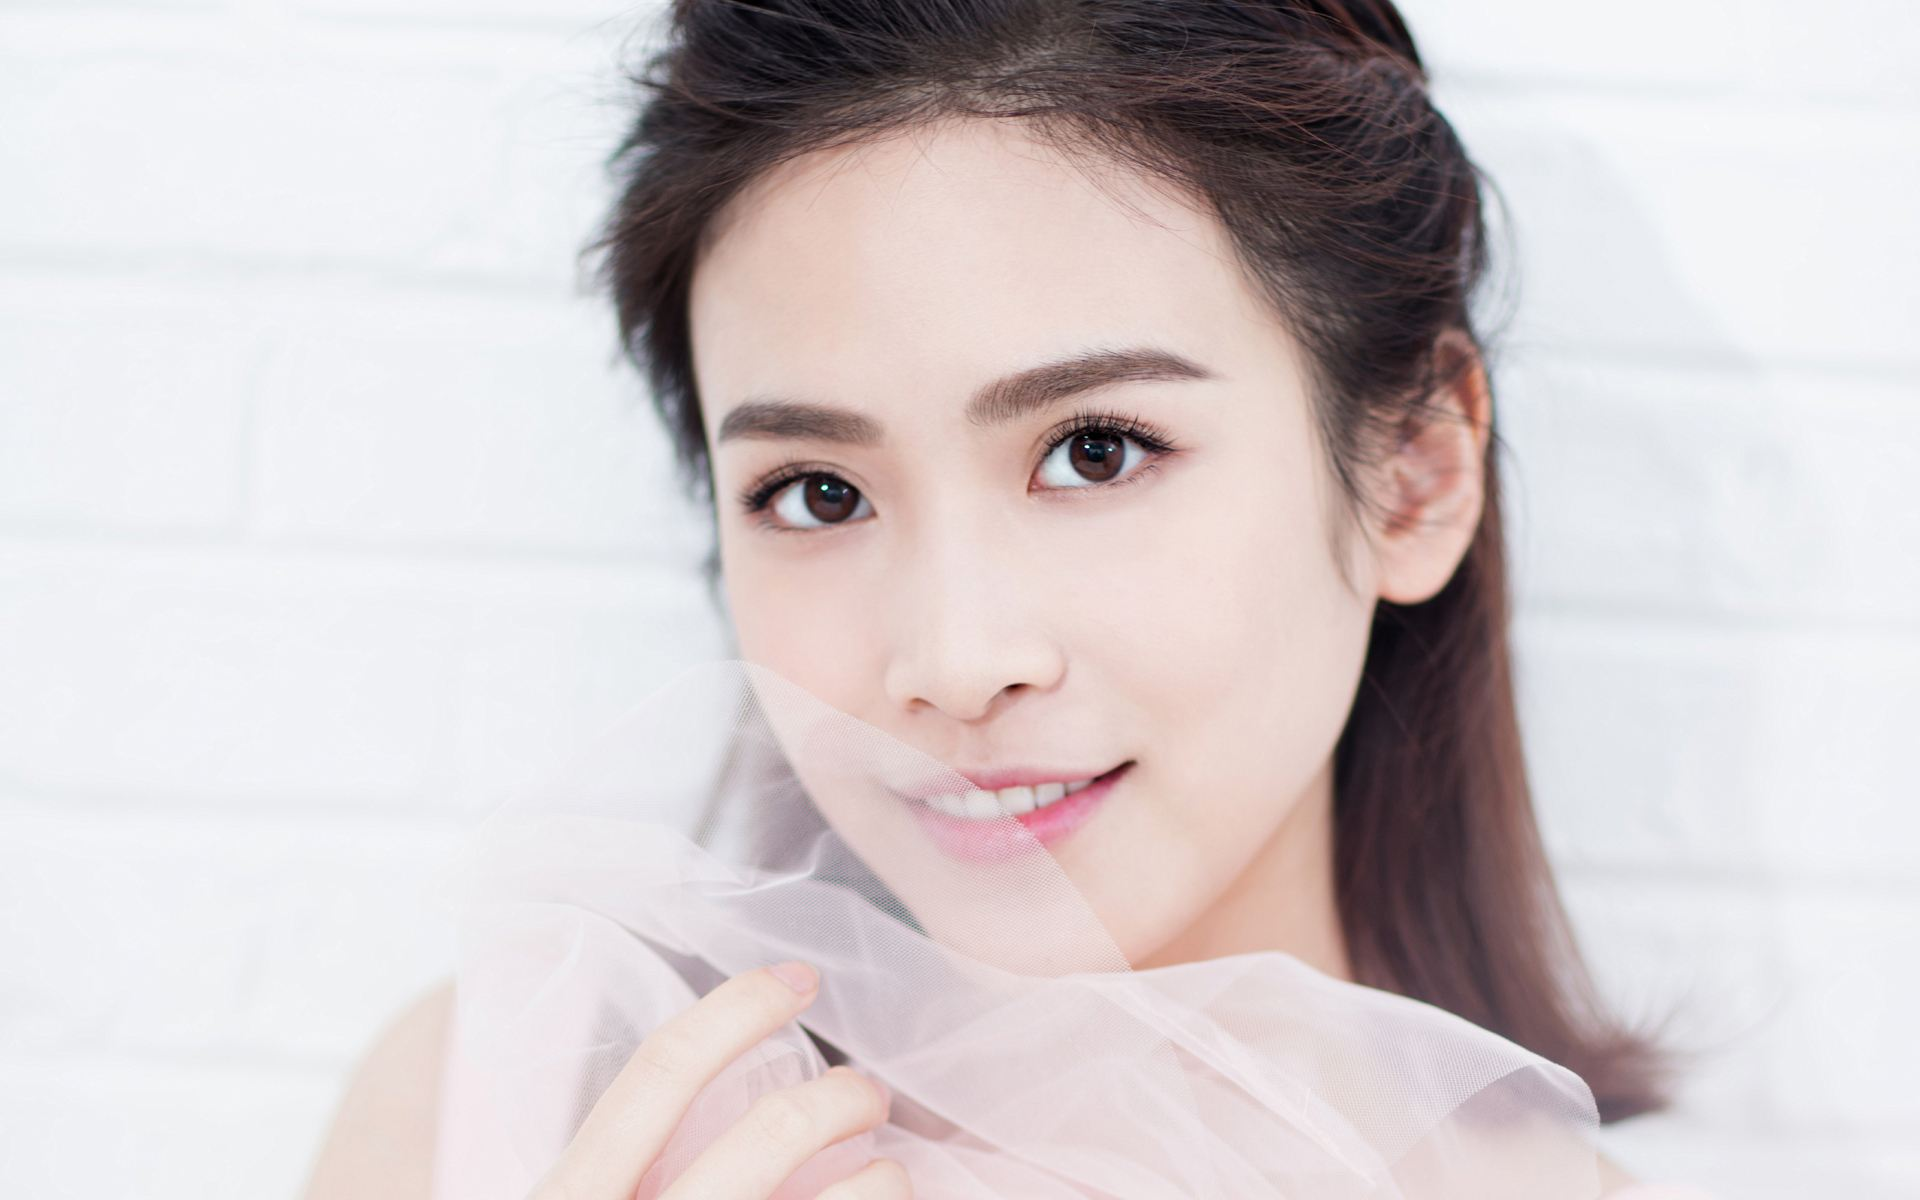person: (494, 31, 1550, 1084)
